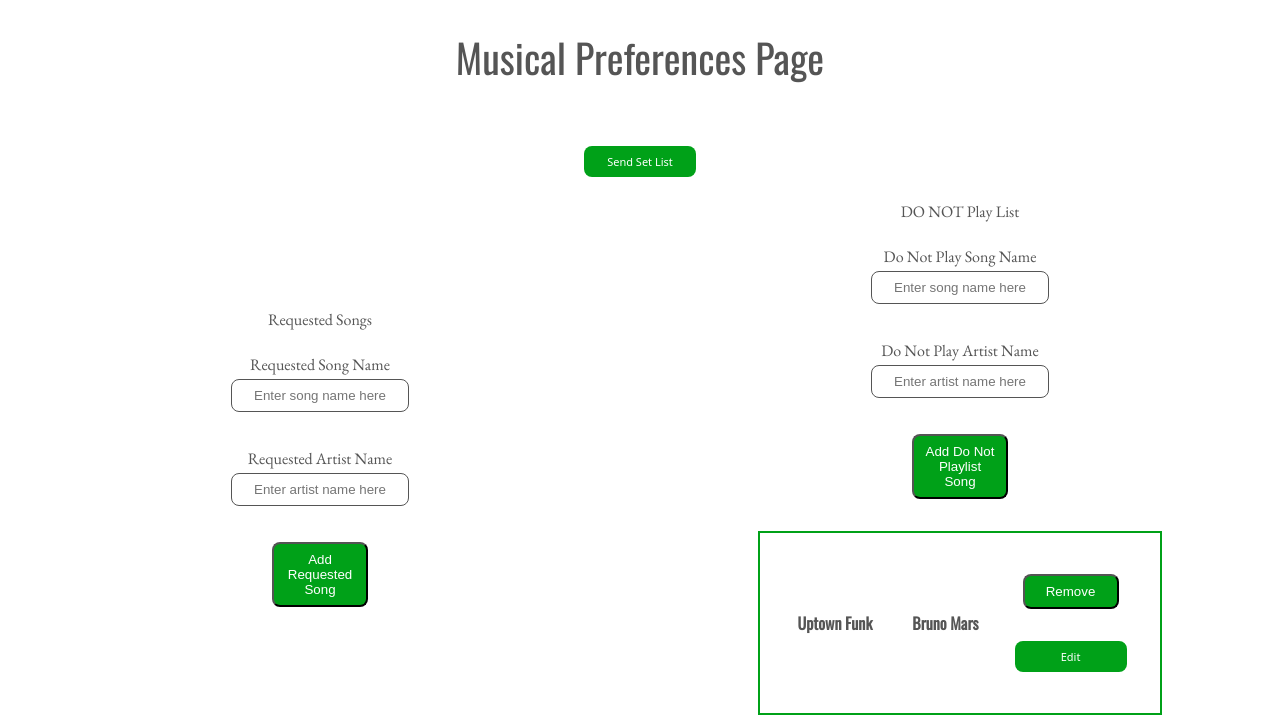
<ClientHomePage/> › Set List Isn't available › Edit song button redirects to edit song page
Expected: the heading "Uptown Funk" is shown, [797,611,872,635]
Click the link with test id "EditLinkButton" at (1070, 656), box [1014,641,1126,672]
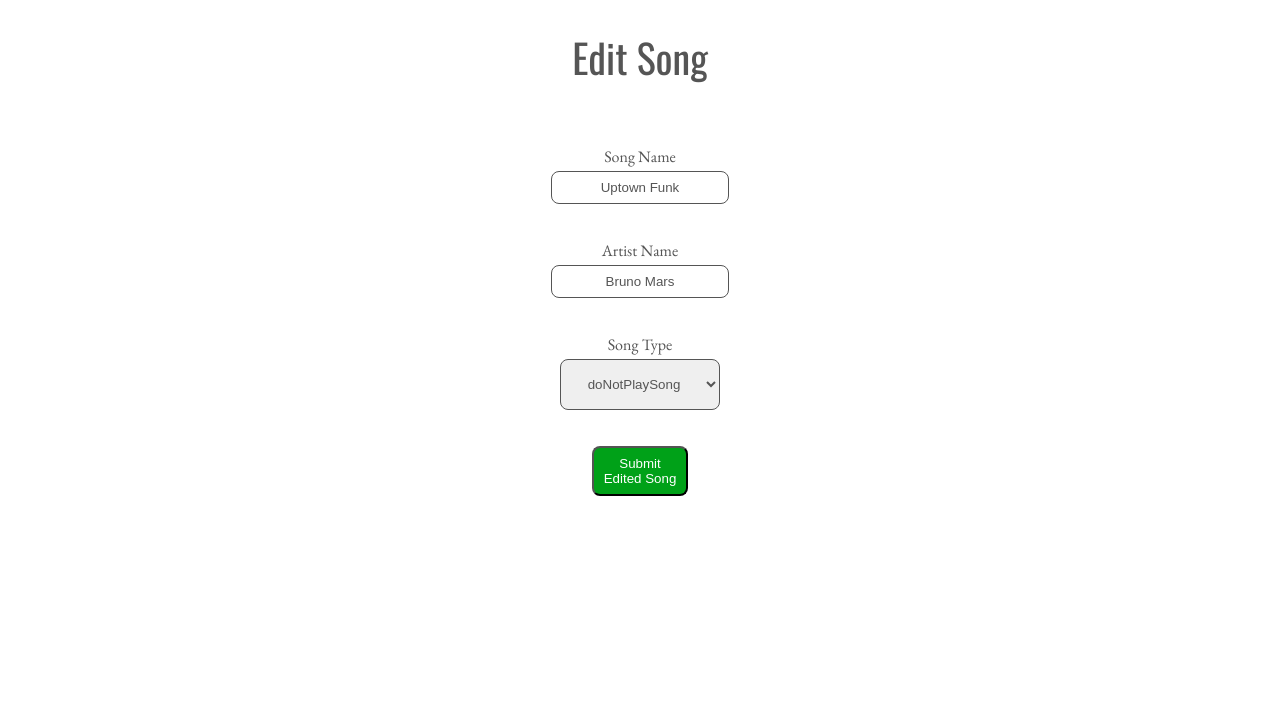
Expected: the heading "Edit Song" is shown, [572,27,708,87]
